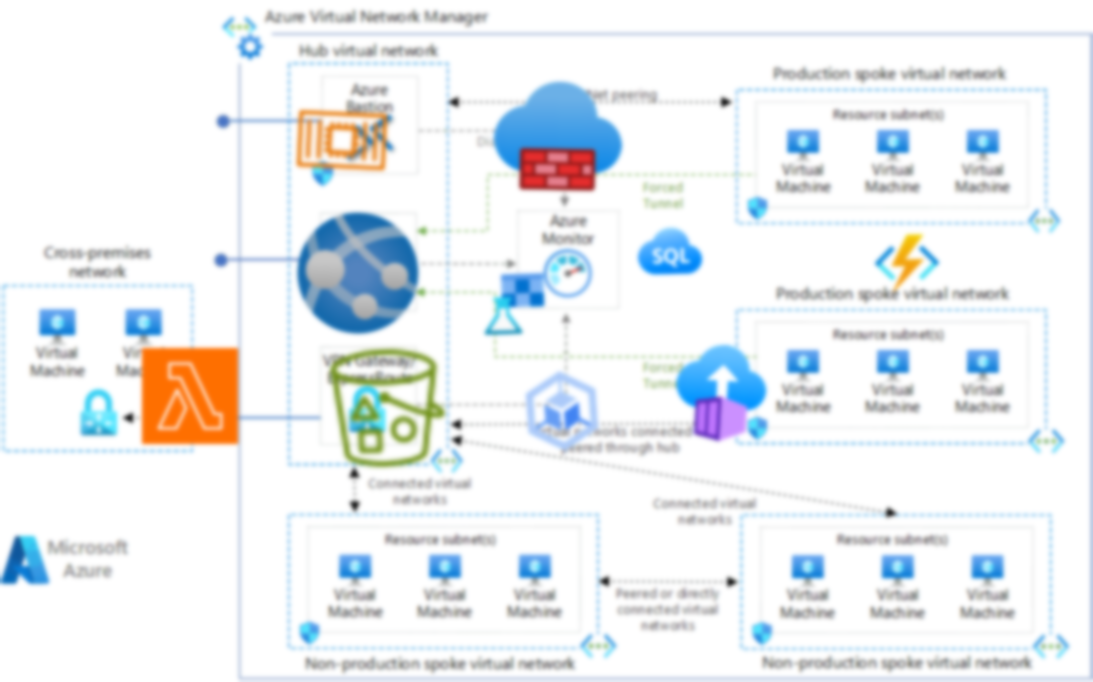aws_elastic_container_service_container_2: (290, 88, 393, 191)
aws_lambda: (141, 346, 239, 444)
aws_simple_storage_service_bucket_with_objects: (321, 341, 455, 474)
azure_app_services: (290, 206, 424, 340)
azure_container_instances: (669, 341, 771, 443)
azure_firewalls: (491, 69, 623, 201)
azure_function_apps: (874, 230, 940, 296)
azure_machine_learning_studio_workspaces: (480, 270, 548, 338)
azure_sql: (636, 218, 702, 284)
gcp_google_kubernetes_engine: (509, 358, 613, 463)
